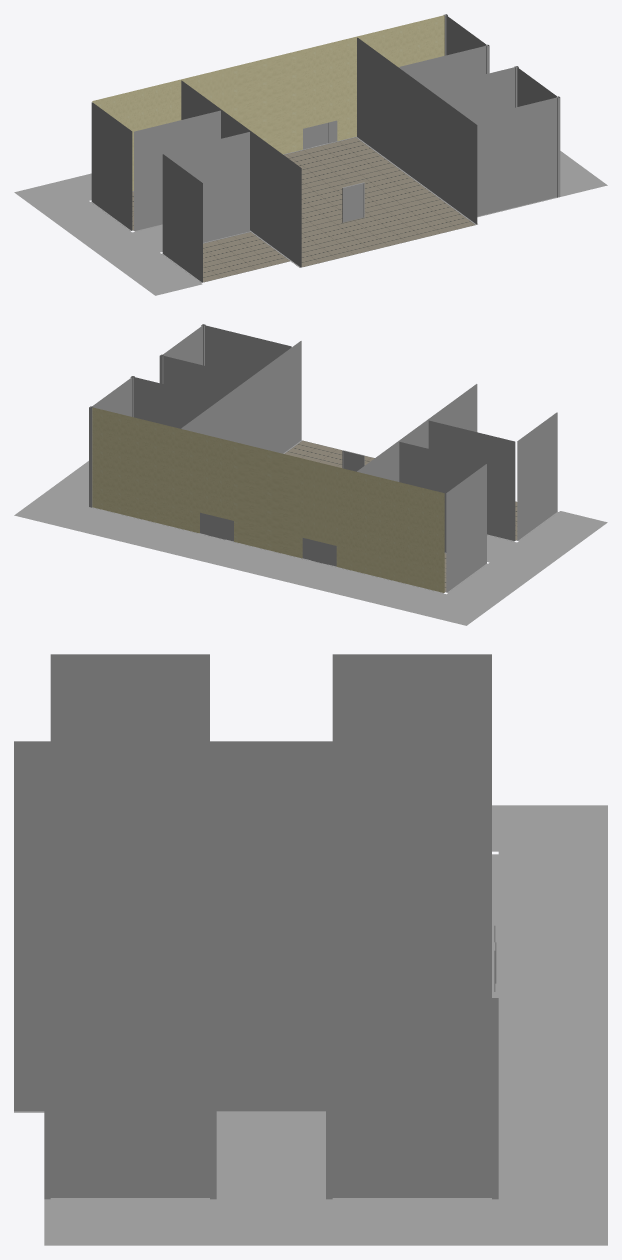
File: test_map_3.fbx
3 views of the same model, one above another, from view 1: azimuth 30°, elevation 25°; view 2: azimuth 150°, elevation 25°; view 3: azimuth 270°, elevation 25° (orthographic). The views are drawn at different scales.
Parts seen in each view (by area): view 1: pCube46; view 2: pCube46; view 3: pCube46.
Boxes of the visible parts, left/top/right/bottom form: pCube46: left=14, top=14, right=607, bottom=295; pCube46: left=14, top=324, right=607, bottom=625; pCube46: left=14, top=654, right=607, bottom=1245.
Size of the model in its own units: 4760 by 1001 by 2714.
